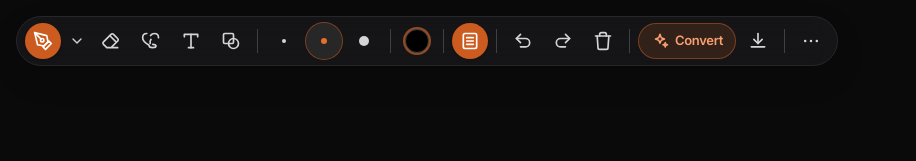
Test: Toolbar variants (Phase 1 item 7) › 'full' shows the peripheral groups
The width and height of the screenshot is (916, 161).
# Music mode / learning mode live in the "More" overflow menu now.
Click the button named "More": {"x": 811, "y": 41} top-left (793, 23), bottom-right (829, 59)
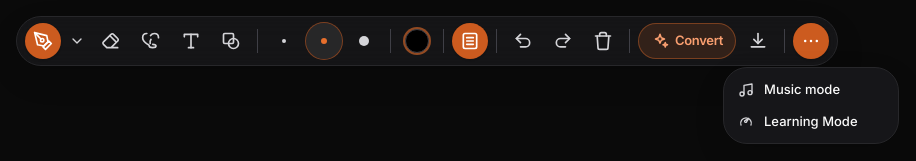
Expected: the menu item "Music mode" is shown, top-left (730, 74), bottom-right (892, 106)
# Exports live in the "Export" menu now.
Click the button named "Export": {"x": 758, "y": 41} top-left (740, 23), bottom-right (776, 59)
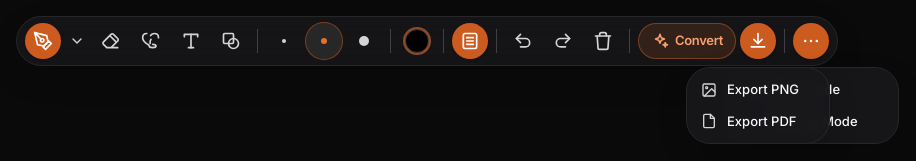
Expected: the menu item "Export PDF" is shown, top-left (693, 106), bottom-right (823, 137)
